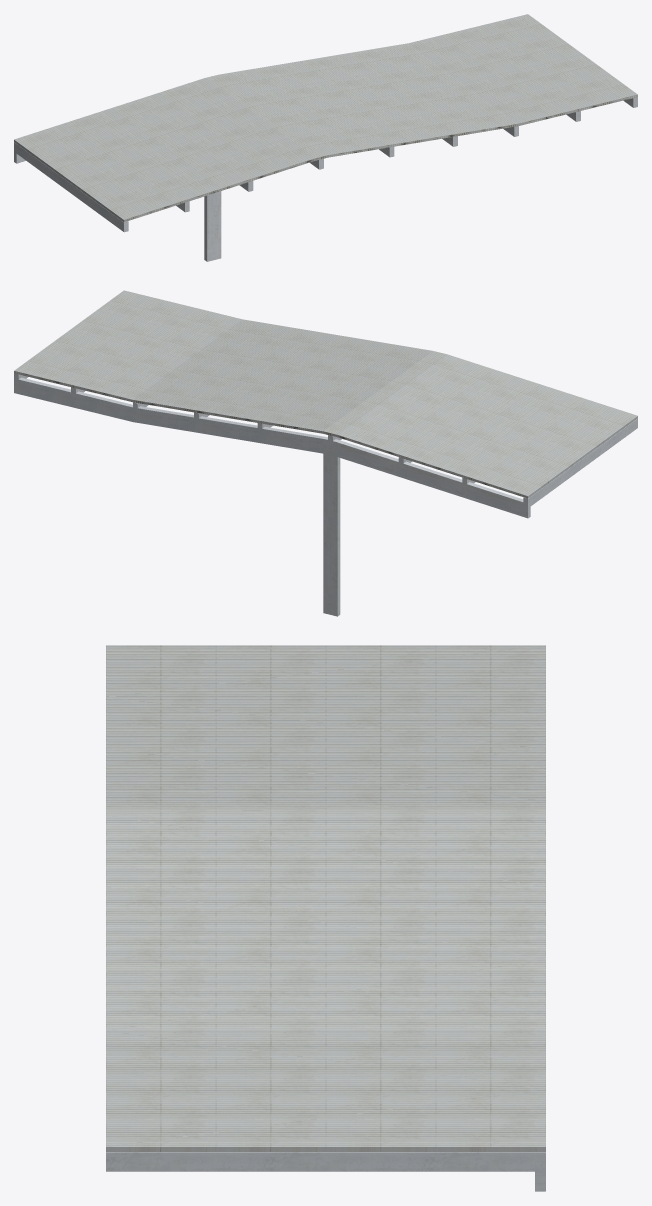
File: Warehouse_Ceiling_01.FBX
3 renders of one model, top to bottom at view 1: azimuth 30°, elevation 25°; view 2: azimuth 150°, elevation 25°; view 3: azimuth 270°, elevation 25°, orthographic. The views are drawn at different scales.
Parts seen in each view (by area): view 1: Warehouse_Ceiling_01; view 2: Warehouse_Ceiling_01; view 3: Warehouse_Ceiling_01.
Part boxes in pixels (x1,y1,x2,y2): Warehouse_Ceiling_01: (14,14,637,261); Warehouse_Ceiling_01: (14,290,637,616); Warehouse_Ceiling_01: (106,645,545,1191).
Bounding box in the file's own units: 1296 × 438 × 480.
